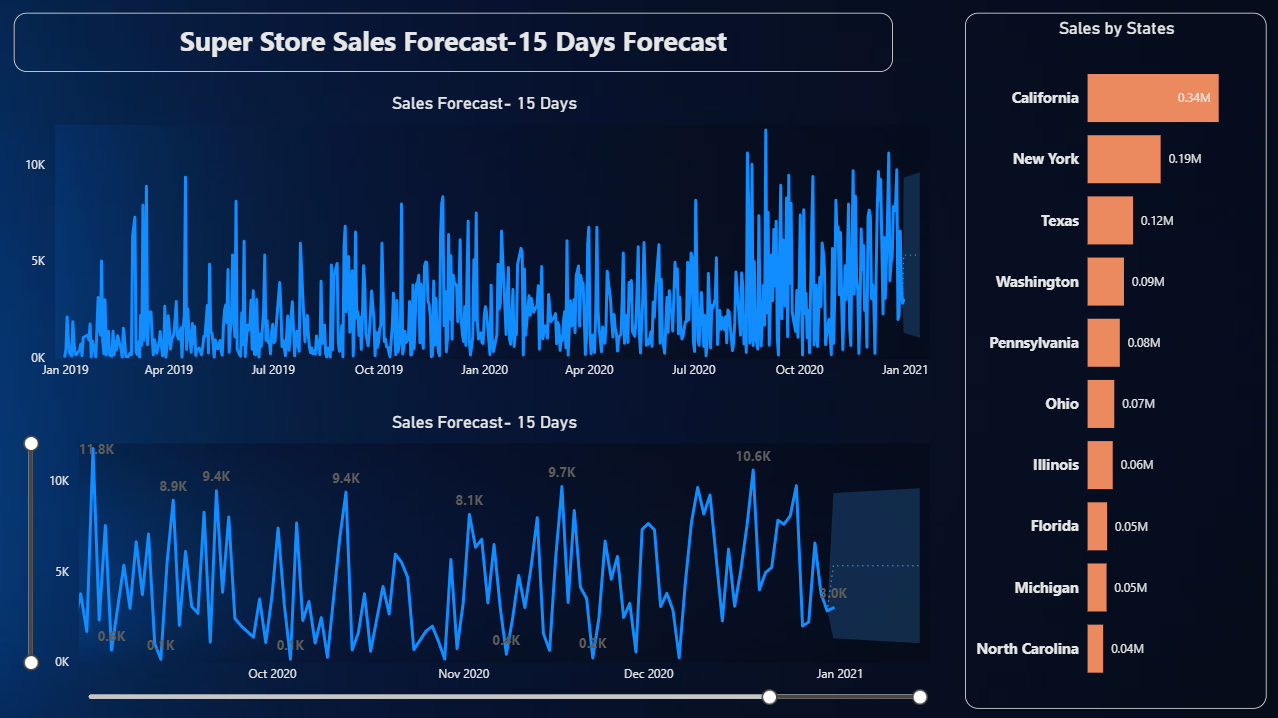

The dashboard page shown, as its layout file describes it:
{"tool":"powerbi","page":{"name":"Page 2","canvas":[1280,720],"ordinal":1},"visuals":[{"type":"lineChart","title":"Sales Forecast- 15 Days","fields":{"Y":["Sum(SuperStore_Sales_Dataset.Sales)"],"Category":["SuperStore_Sales_Dataset.Order Date"]},"box":[20.6,93.3,929,295],"z":0},{"type":"lineChart","title":"Sales Forecast- 15 Days","fields":{"Y":["Sum(SuperStore_Sales_Dataset.Sales)"],"Category":["SuperStore_Sales_Dataset.Order Date"]},"box":[20.6,413,929,296.4],"z":1000},{"type":"clusteredBarChart","title":"Sales by States","fields":{"Category":["SuperStore_Sales_Dataset.State"],"Y":["Sum(SuperStore_Sales_Dataset.Sales)"]},"box":[964.7,13.7,301.9,695.7],"z":2000},{"type":"textbox","box":[13.7,13.7,879.6,59],"z":3000}]}

Visuals, with their boxes in screenshot pixels (x1, y1, x2, y2), scaled from the page's 1280x720 canvas onto the 1278x718 screenshot:
"Sales Forecast- 15 Days" lineChart: pyautogui.locateOnScreen(21, 93, 948, 387)
"Sales Forecast- 15 Days" lineChart: pyautogui.locateOnScreen(21, 412, 948, 707)
"Sales by States" clusteredBarChart: pyautogui.locateOnScreen(963, 14, 1265, 707)
textbox: pyautogui.locateOnScreen(14, 14, 892, 72)
